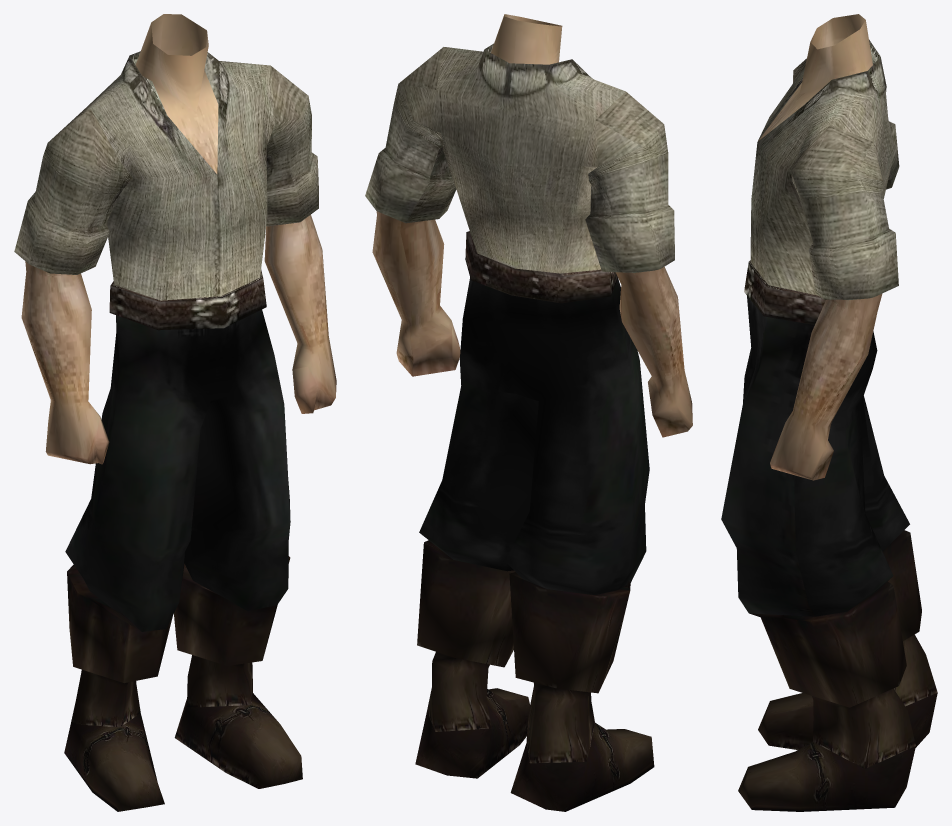
Rendered from KOSZULA_SPODNIE.glb.
The picture shows the model from 3 angles, left to right: view 1: azimuth 30°, elevation 25°; view 2: azimuth 150°, elevation 25°; view 3: azimuth 270°, elevation 25°; orthographic projection.
Parts seen in each view (by area): view 1: KOSZULA_SPODNIE; view 2: KOSZULA_SPODNIE; view 3: KOSZULA_SPODNIE.
Part boxes in pixels (x1,y1,x2,y2): KOSZULA_SPODNIE: [14, 14, 336, 811]; KOSZULA_SPODNIE: [365, 14, 692, 811]; KOSZULA_SPODNIE: [721, 14, 937, 811].
Bounding box in the file's own units: 0.6885 × 1.68 × 0.4402.
2 materials, 2 textured.
